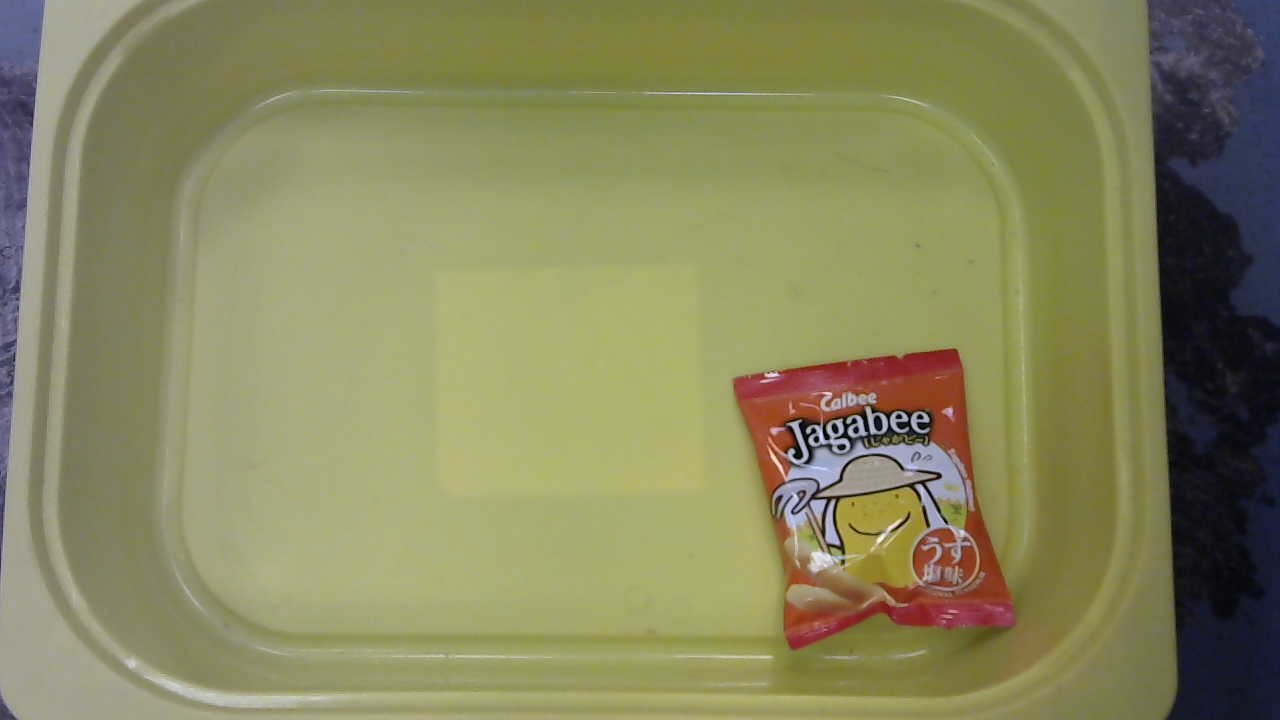JagabeeFarmer: (727, 344, 1023, 656)
